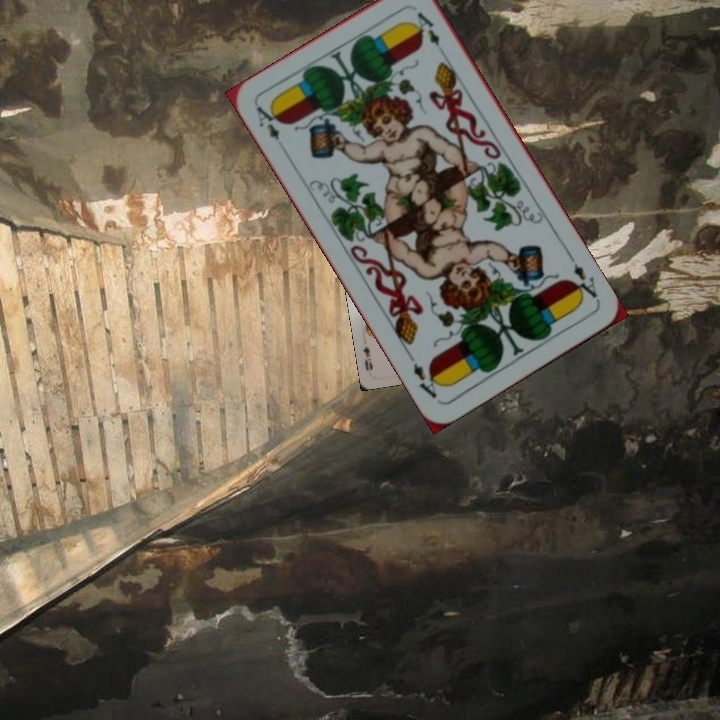EA: (566, 259, 602, 304), (252, 101, 284, 143)
